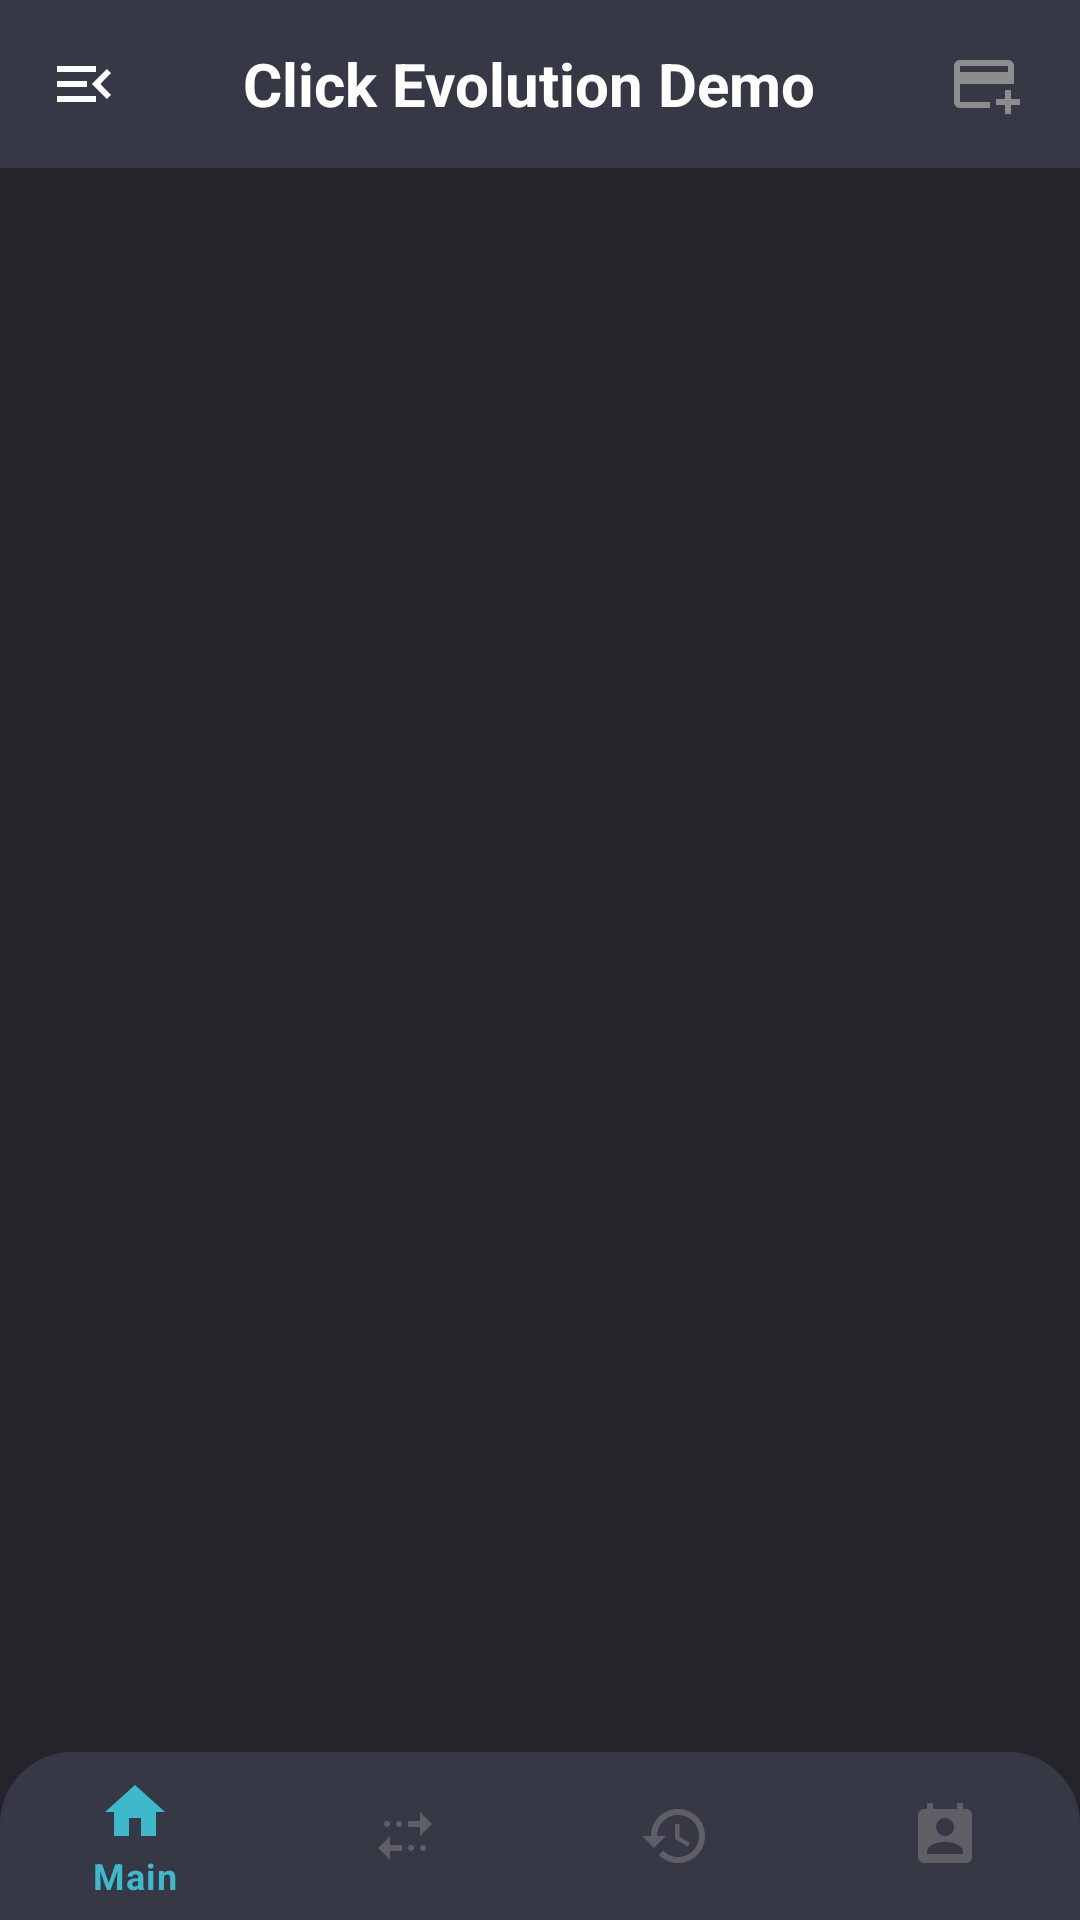

Point at icon controls on the screen. Image size 1080 × 1920, points as [x,y].
add card: [987,87]
menu: [84,84]
